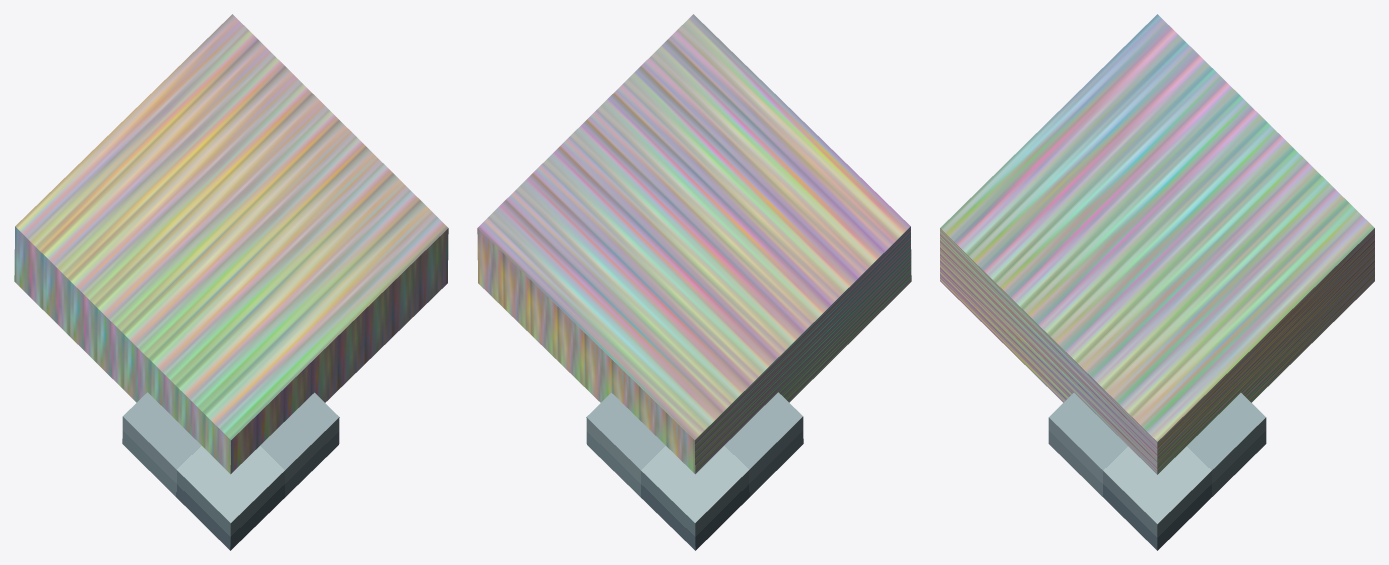
The model's file is supplier_upper.obj.
3 renders of one model, left to right at view 1: azimuth 30°, elevation 25°; view 2: azimuth 150°, elevation 25°; view 3: azimuth 270°, elevation 25°, orthographic.
Visible parts, largest first — view 1: UPPER_Cube.001; view 2: UPPER_Cube.001; view 3: UPPER_Cube.001.
Boxes of the visible parts, x1,y1,x2,y2 form: UPPER_Cube.001: (14, 14, 448, 550); UPPER_Cube.001: (477, 14, 911, 550); UPPER_Cube.001: (940, 14, 1374, 550).
Size of the model in its own units: 0.4076 by 0.4828 by 0.3536.
